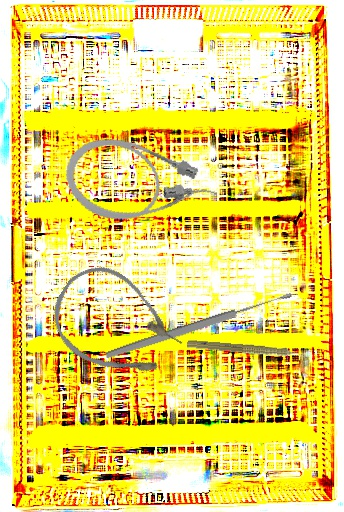Cannula: (37, 252, 196, 400), (56, 126, 224, 245)
Handpiece: (186, 337, 310, 364)
Surgical Spoon: (104, 289, 294, 362)
